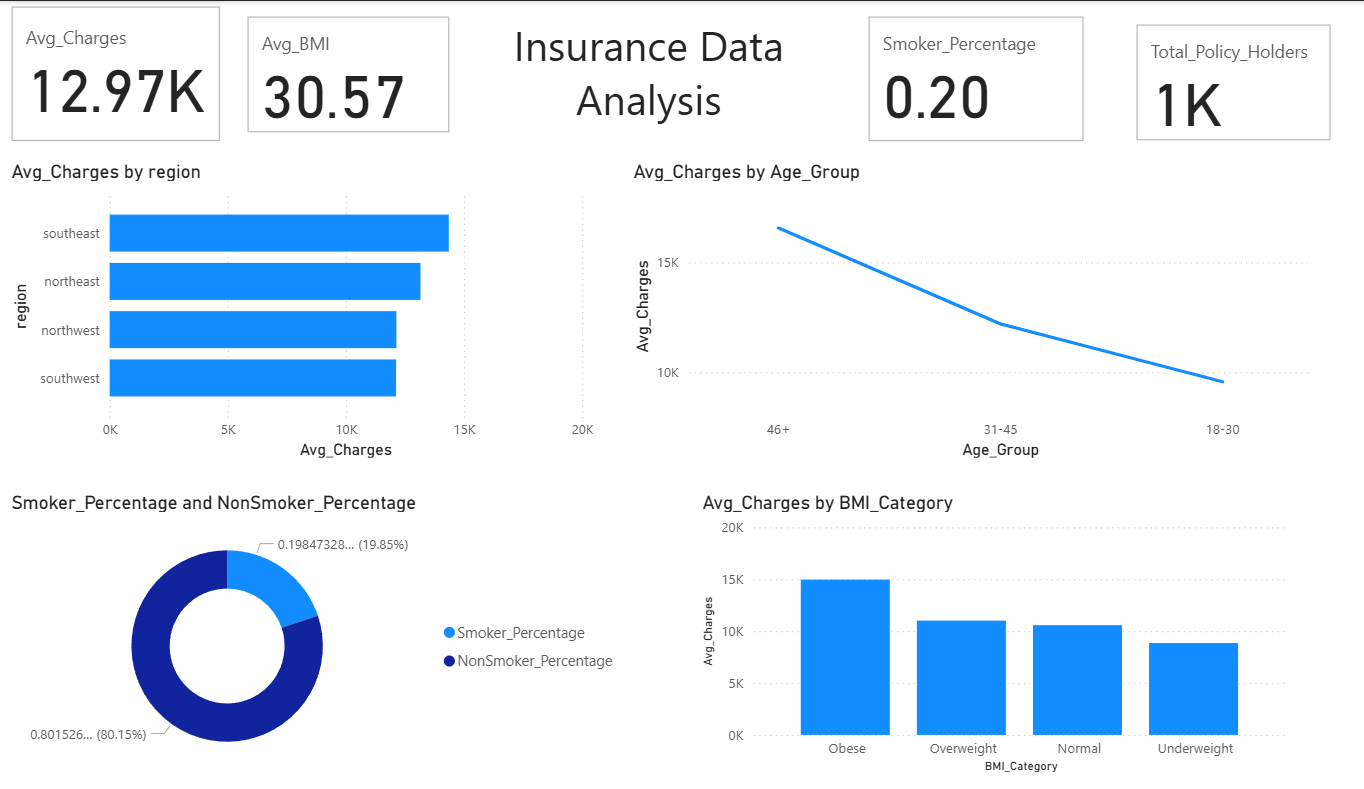

This screenshot's page, from the dashboard's own definition file:
{"tool":"powerbi","page":{"name":"Page 1","canvas":[1280,720],"ordinal":0},"visuals":[{"type":"cardVisual","fields":{"Data":["cleaned_insurance.Avg_Charges"]},"box":[13.7,0,199.1,132.3],"z":0},{"type":"cardVisual","fields":{"Data":["cleaned_insurance.Avg_BMI"]},"box":[228,9.1,193.1,115.5],"z":1},{"type":"cardVisual","fields":{"Data":["cleaned_insurance.Smoker_Percentage"]},"box":[790.5,9.1,205.2,123.1],"z":2},{"type":"cardVisual","fields":{"Data":["cleaned_insurance.Total_Policy_Holders"]},"box":[1033.7,16.7,187,115.5],"z":3},{"type":"donutChart","fields":{"Y":["cleaned_insurance.Smoker_Percentage","cleaned_insurance.NonSmoker_Percentage"]},"box":[13.3,444.4,564,260.2],"z":4},{"type":"barChart","fields":{"Category":["cleaned_insurance.region"],"Y":["cleaned_insurance.Avg_Charges"]},"box":[13.3,144.3,537.4,275.4],"z":5},{"type":"clusteredColumnChart","fields":{"Category":["cleaned_insurance.BMI_Category"],"Y":["cleaned_insurance.Avg_Charges"]},"box":[640,444.4,541.2,260.2],"z":6},{"type":"lineChart","fields":{"Category":["cleaned_insurance.Age_Group"],"Y":["cleaned_insurance.Avg_Charges"]},"box":[577.3,144.3,624.8,275.4],"z":7},{"type":"textbox","box":[436.3,9.1,320.8,109.5],"z":8}]}

Visuals, with their boxes in screenshot pixels (x1, y1, x2, y2), scaled from the page's 1280x720 canvas onto the 1364x789 screenshot:
cardVisual - cleaned_insurance.Avg_Charges: box=[15, 0, 227, 145]
cardVisual - cleaned_insurance.Avg_BMI: box=[243, 10, 449, 137]
cardVisual - cleaned_insurance.Smoker_Percentage: box=[842, 10, 1061, 145]
cardVisual - cleaned_insurance.Total_Policy_Holders: box=[1102, 18, 1301, 145]
donutChart - cleaned_insurance.Smoker_Percentage x cleaned_insurance.NonSmoker_Percentage: box=[14, 487, 615, 772]
barChart - cleaned_insurance.region x cleaned_insurance.Avg_Charges: box=[14, 158, 587, 460]
clusteredColumnChart - cleaned_insurance.BMI_Category x cleaned_insurance.Avg_Charges: box=[682, 487, 1259, 772]
lineChart - cleaned_insurance.Age_Group x cleaned_insurance.Avg_Charges: box=[615, 158, 1281, 460]
textbox: box=[465, 10, 807, 130]
